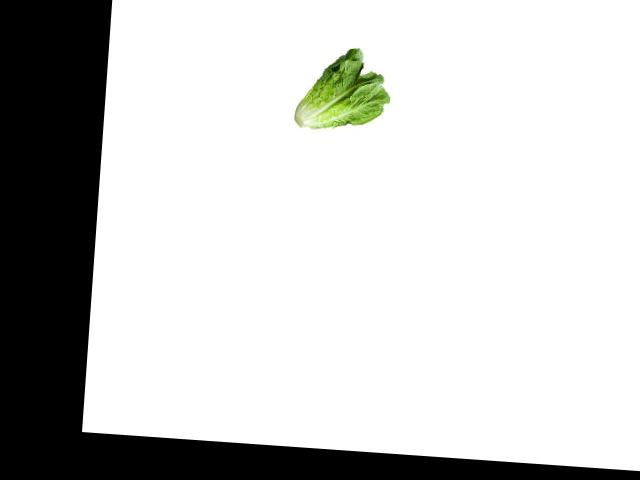lettuce: (287, 40, 393, 141)
